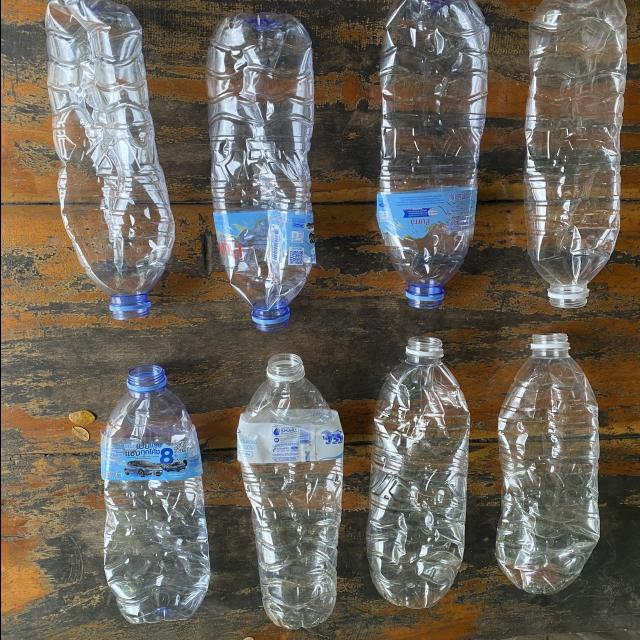plastik: (45, 0, 174, 319), (375, 0, 488, 308), (206, 14, 314, 331), (522, 0, 625, 308), (236, 354, 342, 629), (100, 364, 209, 624), (365, 338, 468, 608), (494, 334, 599, 594)
